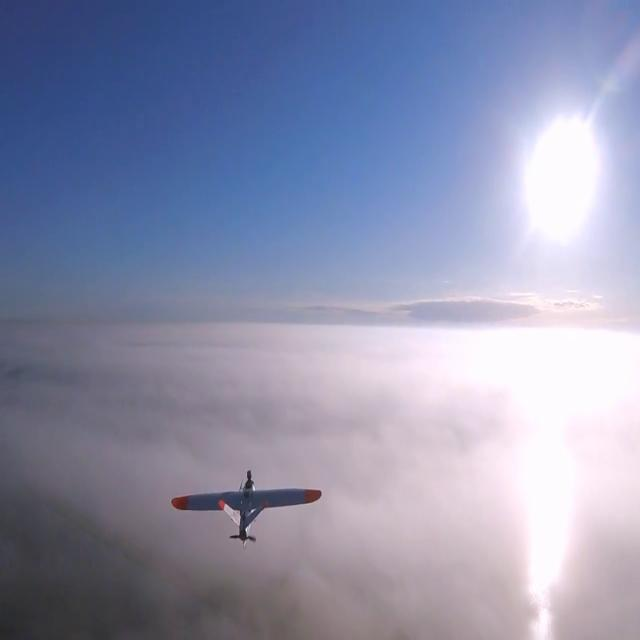iha: (169, 490, 323, 519)
